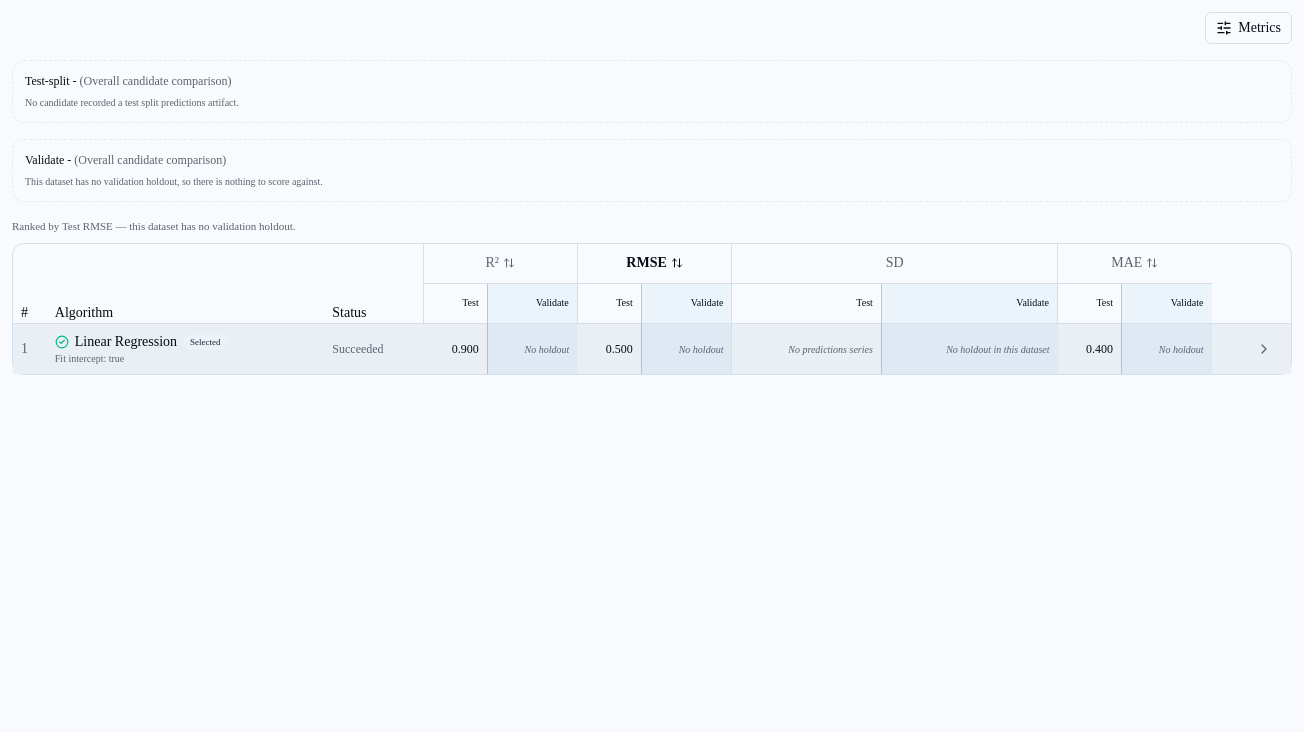
Test: Phase4ModelSelection — charts revealed per row, not all at once (MODEL-FLOW-019-T06) › renders no chart until a row is expanded, then hides it again on a second click
Expected: the text "No predictions artifact recorded for this run." is not shown
Click the button named "show charts" at (1264, 349), box left=1245, top=335, right=1283, bottom=363
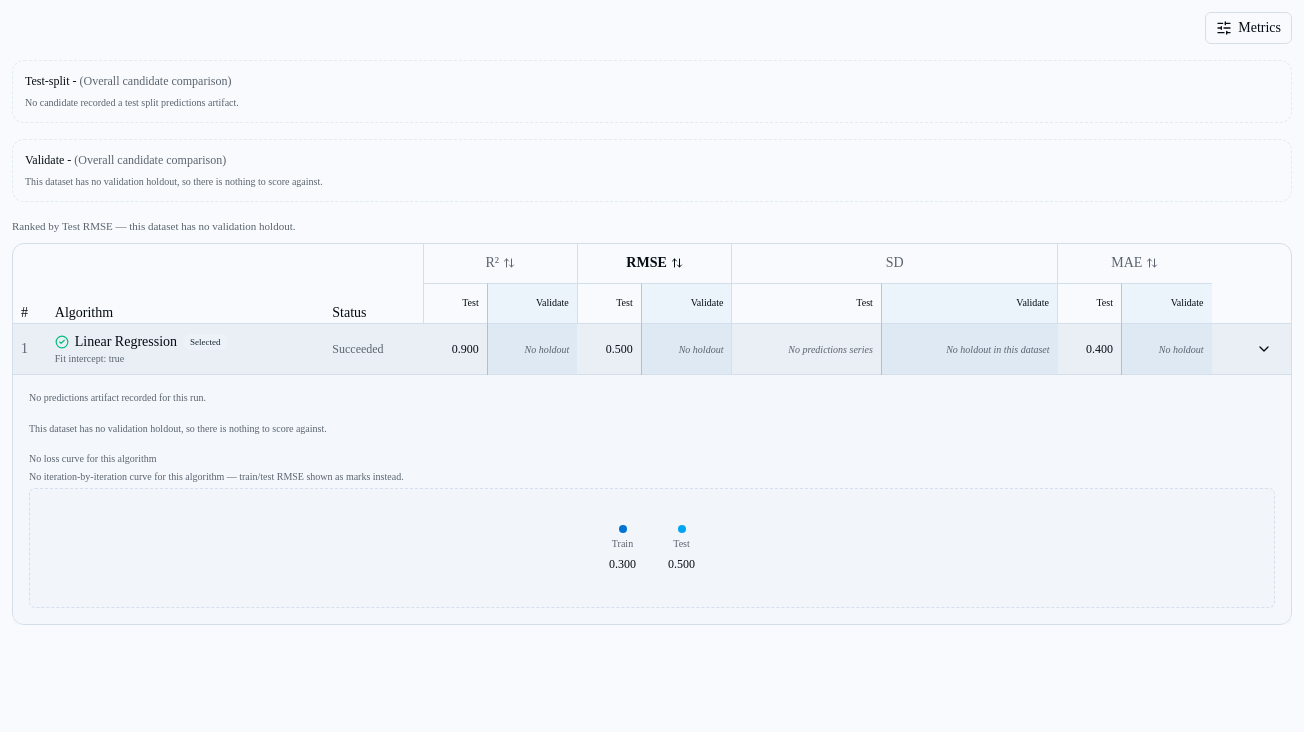
Expected: the text "No predictions artifact recorded for this run." is shown, left=29, top=392, right=206, bottom=403
Expected: the button named "hide charts" is shown
Click the button named "hide charts" at (1264, 349), box left=1245, top=335, right=1283, bottom=363
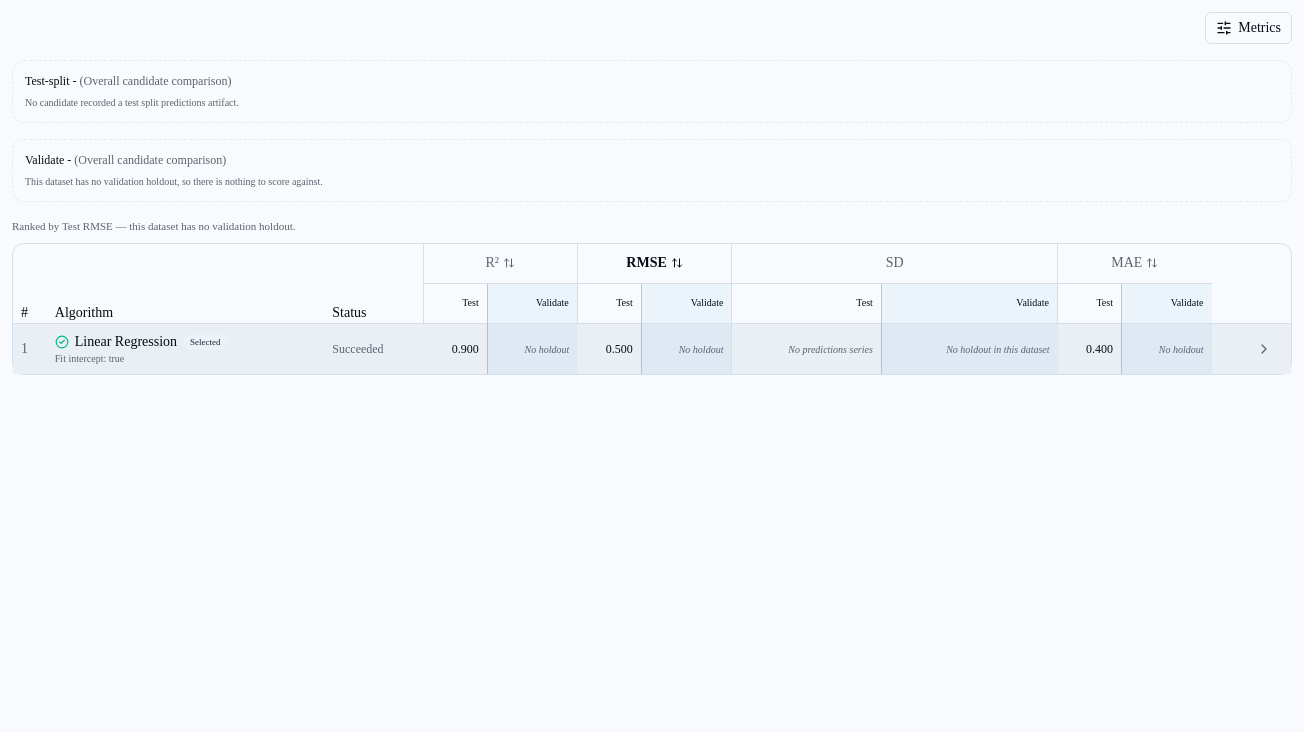
Expected: the text "No predictions artifact recorded for this run." is gone
